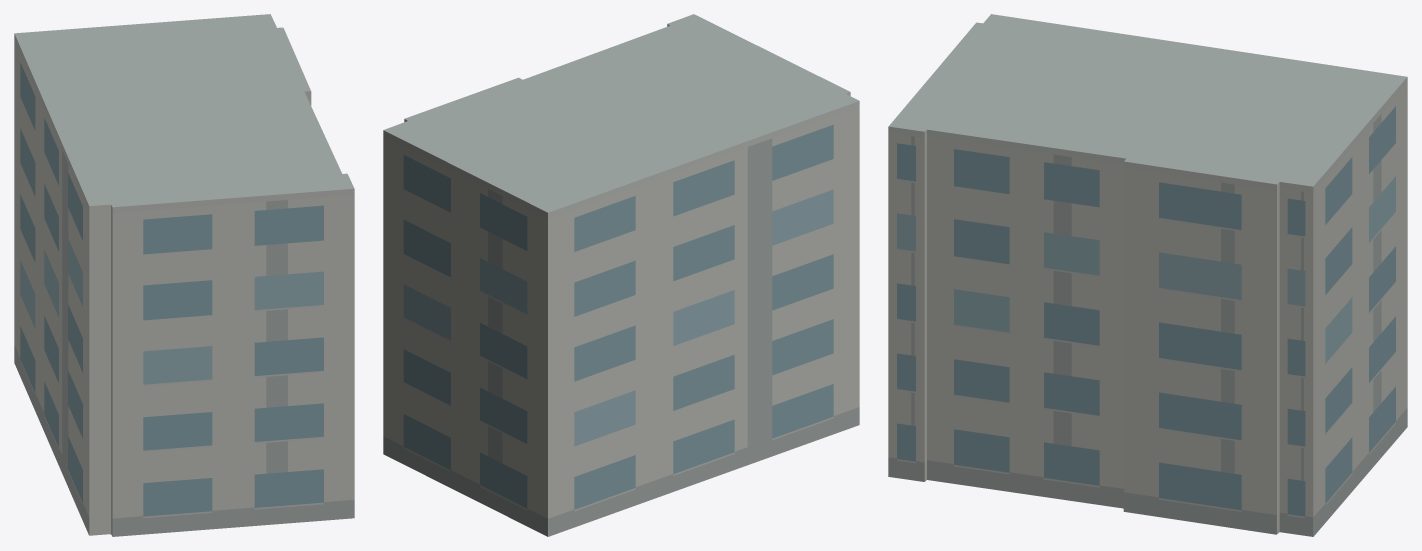
Rendered from survey-upis-32946419.glb.
3 renders of one model, left to right at view 1: azimuth 30°, elevation 25°; view 2: azimuth 150°, elevation 25°; view 3: azimuth 270°, elevation 25°, orthographic. The views are drawn at different scales.
Parts seen in each view (by area): view 1: survey-upis-32946419.tmp; view 2: survey-upis-32946419.tmp; view 3: survey-upis-32946419.tmp.
Part boxes in pixels (<box>): survey-upis-32946419.tmp: <box>14,14,354,536</box>; survey-upis-32946419.tmp: <box>383,14,859,536</box>; survey-upis-32946419.tmp: <box>888,14,1407,536</box>.
Bounding box in the file's own units: 13.96 × 13.2 × 17.74.
